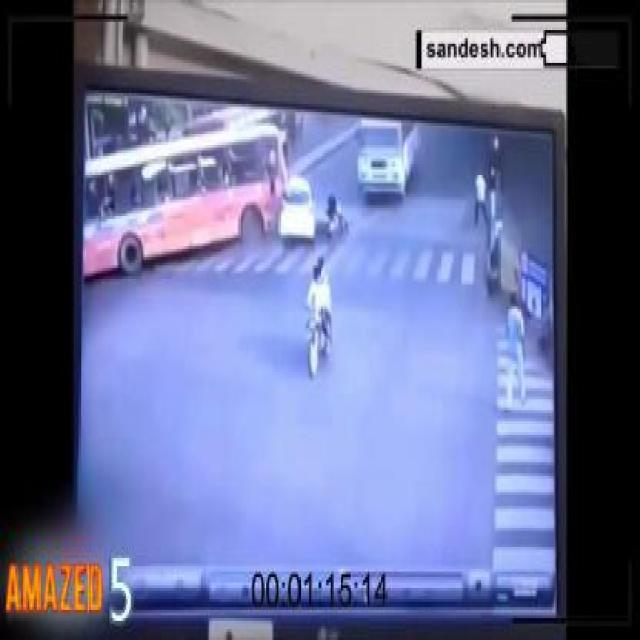accident: (78, 115, 316, 284)
